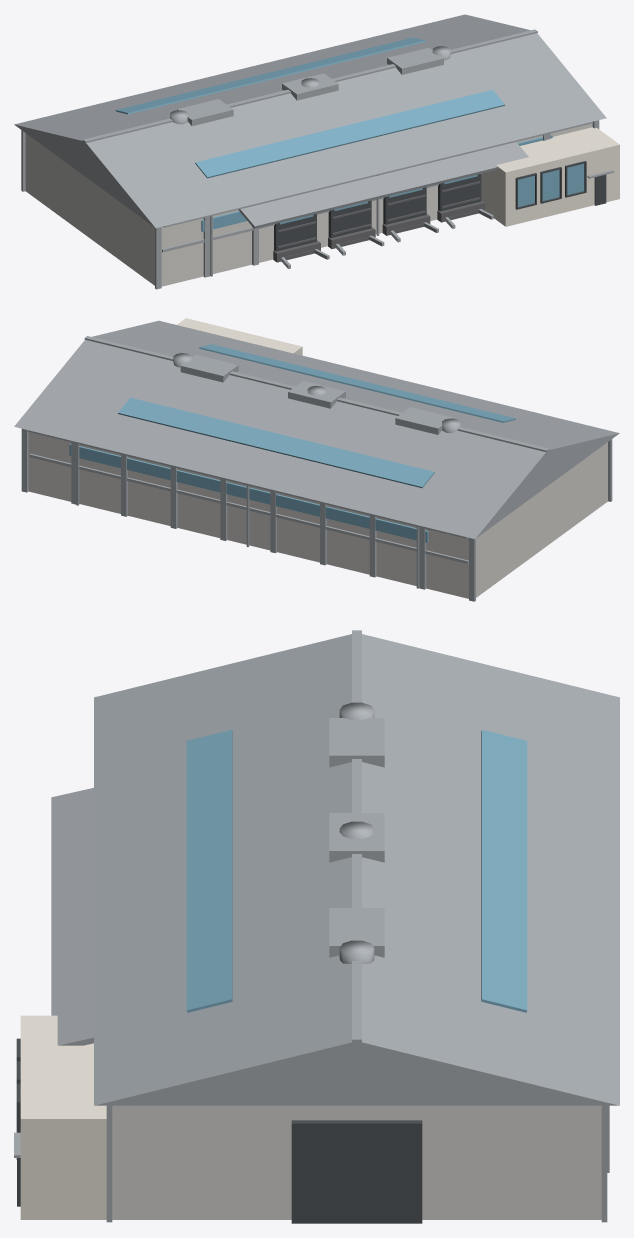
Rendered from warehouse_small.glb.
3 renders of one model, top to bottom at view 1: azimuth 30°, elevation 25°; view 2: azimuth 150°, elevation 25°; view 3: azimuth 270°, elevation 25°, orthographic. The views are drawn at different scales.
Parts seen in each view (by area): view 1: Merged_PropsMetal, wh_walls, Merged_FacadeGlass, wh_office, Merged_WindowFrame, Merged_RoofDark; view 2: Merged_PropsMetal, wh_walls, Merged_FacadeGlass, wh_office; view 3: Merged_PropsMetal, wh_walls, Merged_FacadeGlass, wh_office, Merged_WindowFrame.
Boxes of the visible parts, x1,y1,x2,y2 form: Merged_PropsMetal: (14,14,614,289); wh_walls: (25,123,592,286); Merged_FacadeGlass: (115,37,584,231); wh_office: (481,127,619,226); Merged_WindowFrame: (274,161,606,251); Merged_RoofDark: (273,181,484,262); Merged_PropsMetal: (14,320,619,601); wh_walls: (28,432,607,598); Merged_FacadeGlass: (69,344,515,542); wh_office: (177,318,302,355); Merged_PropsMetal: (14,630,619,1222); wh_walls: (112,1105,601,1219); Merged_FacadeGlass: (186,730,527,1012); wh_office: (20,1015,114,1219); Merged_WindowFrame: (16,1038,422,1223).
Bounding box in the file's own units: 47.5 × 10.45 × 29.73.
